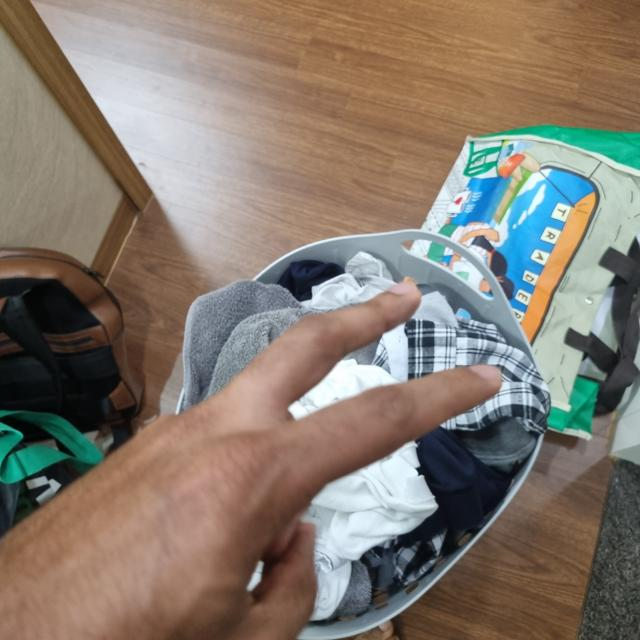Scissors: (0, 280, 503, 639)
